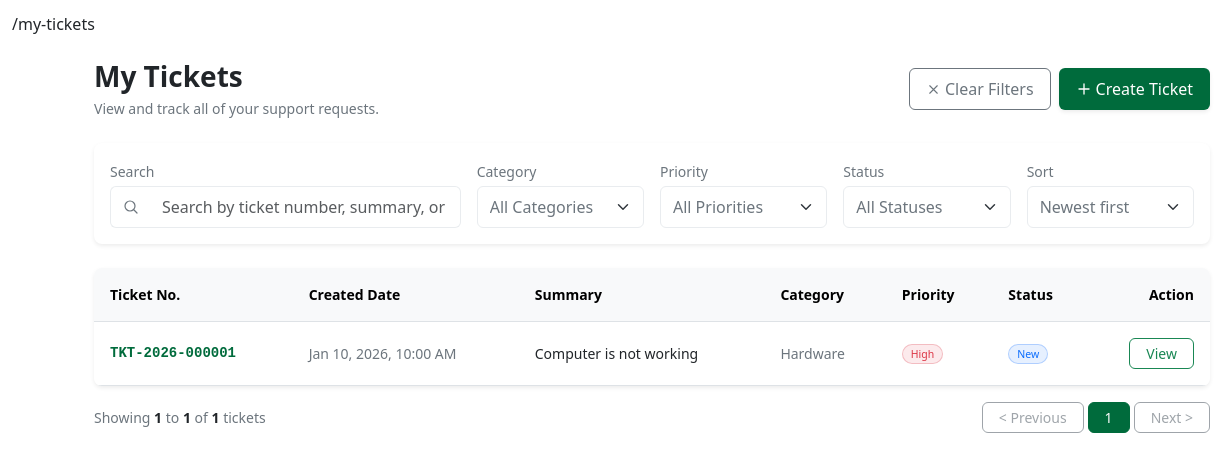
Test case: MyTickets - Lab 2 UI Tests › navigates to Create Ticket when clicking Create Ticket
expect the text "TKT-2026-000001" is shown: met, box [94, 321, 293, 385]
Click the button "Create Ticket". click: (1134, 89)
box: [1059, 68, 1210, 110]
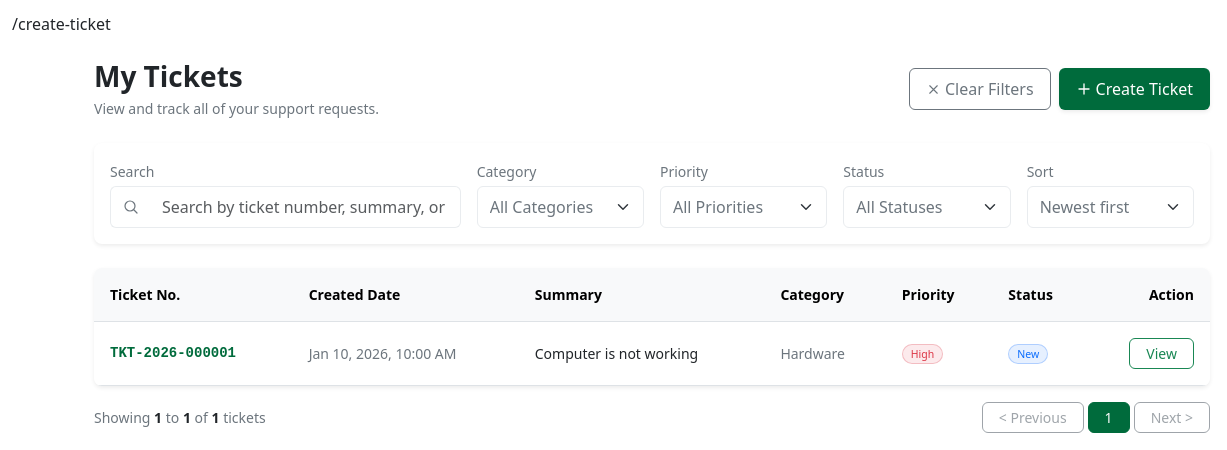
expect the text with test id "current-location" reads "/create-ticket": met, box [12, 13, 111, 35]
